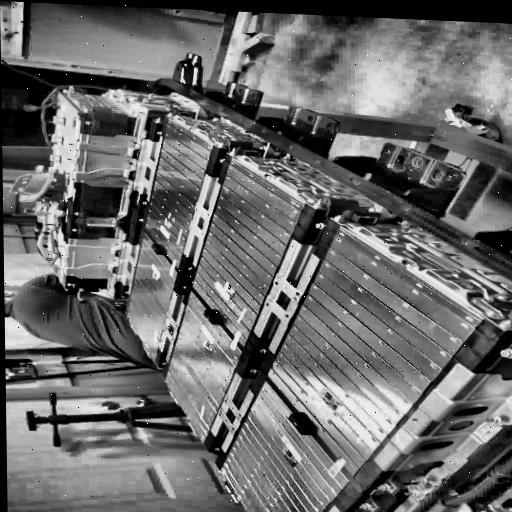battery_module: (268, 225, 481, 475), (192, 156, 305, 348), (220, 380, 349, 512), (165, 289, 243, 442), (144, 117, 212, 267), (125, 231, 179, 358)
